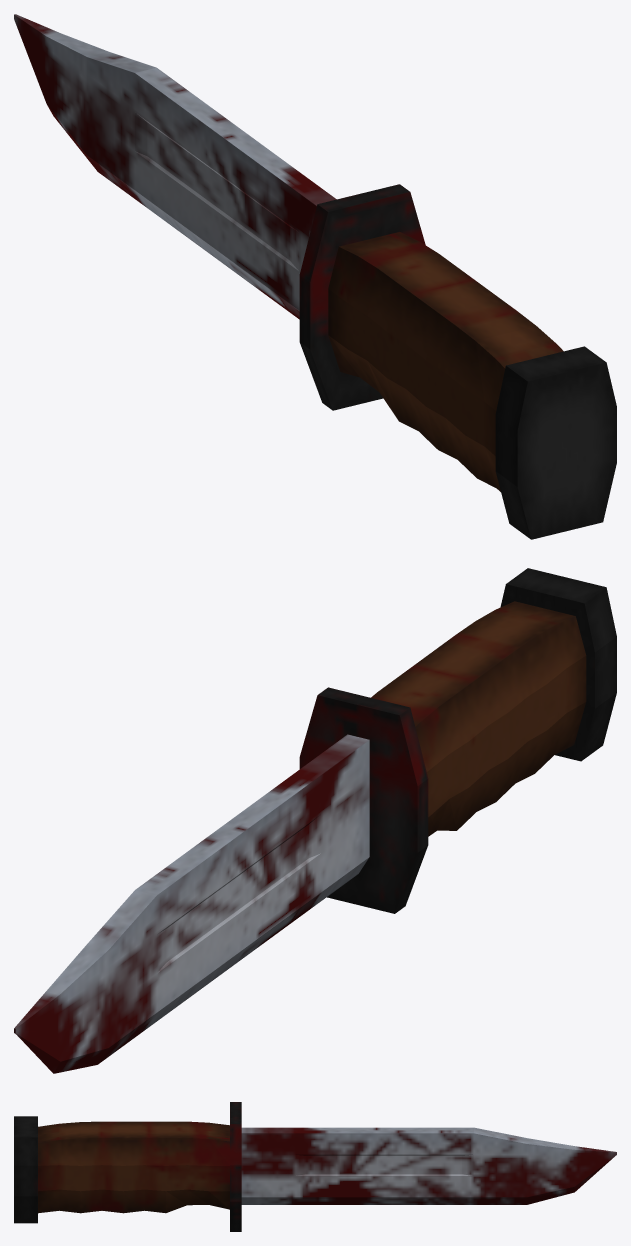
File: knife.fbx
3 renders of one model, top to bottom at view 1: azimuth 30°, elevation 25°; view 2: azimuth 150°, elevation 25°; view 3: azimuth 270°, elevation 25°, orthographic. The views are drawn at different scales.
Visible parts, largest first — view 1: Cube; view 2: Cube; view 3: Cube.
Part boxes in pixels (x1,y1,x2,y2): Cube: (14,14,616,539); Cube: (14,568,616,1073); Cube: (14,1102,616,1231).
Bounding box in the file's own units: 178 × 288 × 1442.
1 material, 1 textured.
